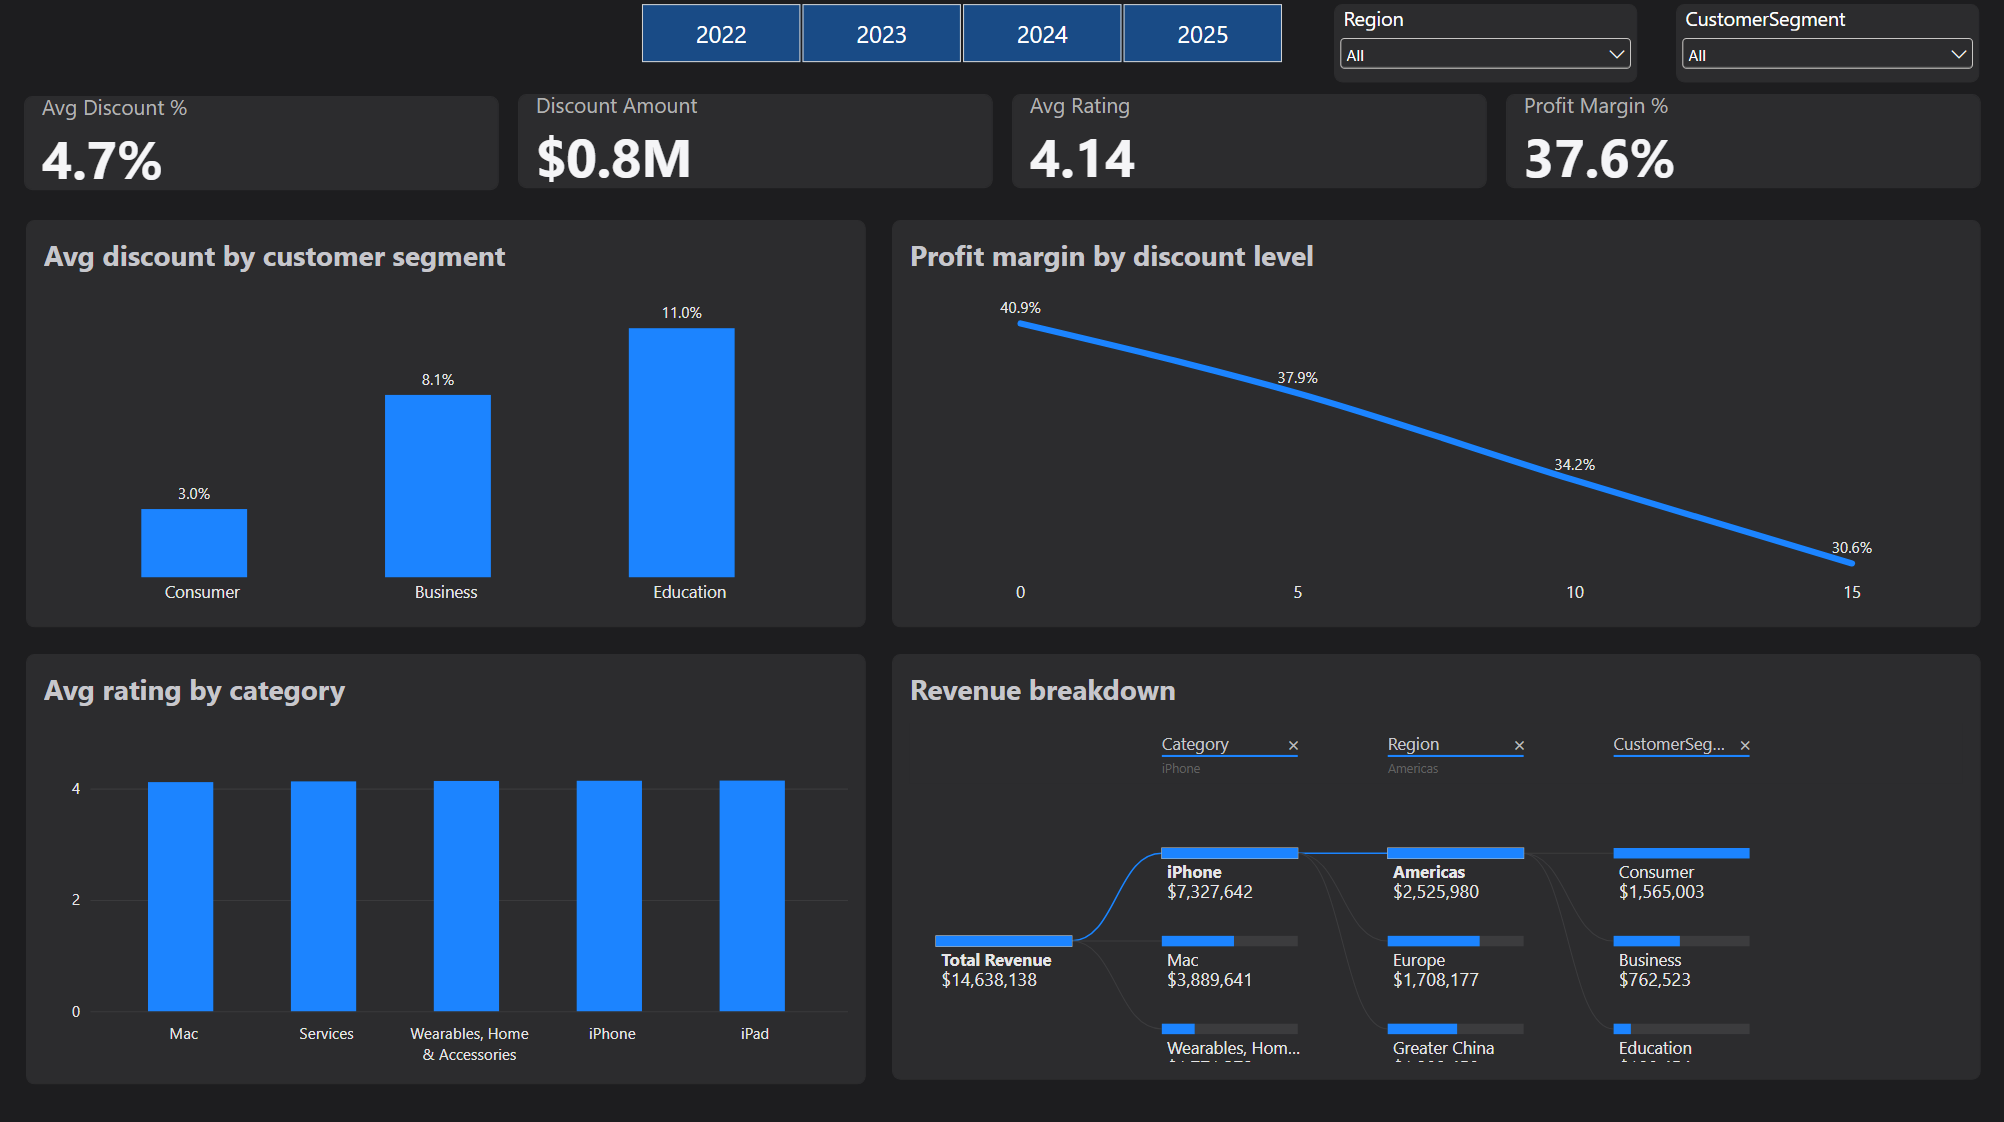

The dashboard page shown, as its layout file describes it:
{"tool":"powerbi","page":{"name":"Discount & Customer Insights","canvas":[1920,1080],"ordinal":3},"visuals":[{"type":"slicer","fields":{"Values":["Date.Year"]},"box":[594.7,9.6,652.1,59.3],"z":0},{"type":"slicer","fields":{"Values":["Store.Region"]},"box":[1277.5,11.5,290,75],"z":1000},{"type":"slicer","fields":{"Values":["Sales.CustomerSegment"]},"box":[1604.5,11.5,290,75],"z":2000},{"type":"cardVisual","fields":{"Data":["Sales.Profit Margin %"]},"box":[1442.5,97.9,454,90],"z":3000},{"type":"cardVisual","fields":{"Data":["Sales.Avg Rating"]},"box":[970,97.9,454,90],"z":4000},{"type":"cardVisual","fields":{"Data":["Sales.Discount Amount"]},"box":[497.6,97.9,454,90],"z":5000},{"type":"cardVisual","fields":{"Data":["Sales.Avg Discount %"]},"box":[25.1,98.9,454,90],"z":6000},{"type":"clusteredColumnChart","title":"Avg discount by customer segment","fields":{"Category":["Sales.CustomerSegment"],"Y":["Sales.Avg Discount %"]},"box":[26,217.8,803.2,389.6],"z":7000},{"type":"lineChart","title":"Profit margin  by discount level","fields":{"Category":["Sales.DiscountPct"],"Y":["Sales.Profit Margin %"]},"box":[855.1,217.8,1040.9,389.6],"z":8000},{"type":"clusteredColumnChart","title":"Avg rating by category","fields":{"Category":["Product.Category"],"Y":["Sales.Avg Rating"]},"box":[26,633.3,803.2,411.6],"z":9000},{"type":"decompositionTreeVisual","title":"Revenue breakdown","fields":{"Analyze":["Sales.Total Revenue"],"ExplainBy":["Product.Category","Store.Region","Sales.CustomerSegment"]},"box":[855.1,633.3,1040.9,407],"z":10000}]}

Visuals, with their boxes in screenshot pixels (x1, y1, x2, y2), scaled from the page's 1920x1080 canvas onto the 2004x1122 screenshot:
slicer - Date.Year: <bbox>621, 10, 1301, 72</bbox>
slicer - Store.Region: <bbox>1333, 12, 1636, 90</bbox>
slicer - Sales.CustomerSegment: <bbox>1675, 12, 1977, 90</bbox>
cardVisual - Sales.Profit Margin %: <bbox>1506, 102, 1979, 195</bbox>
cardVisual - Sales.Avg Rating: <bbox>1012, 102, 1486, 195</bbox>
cardVisual - Sales.Discount Amount: <bbox>519, 102, 993, 195</bbox>
cardVisual - Sales.Avg Discount %: <bbox>26, 103, 500, 196</bbox>
"Avg discount by customer segment" clusteredColumnChart: <bbox>27, 226, 865, 631</bbox>
"Profit margin  by discount level" lineChart: <bbox>893, 226, 1979, 631</bbox>
"Avg rating by category" clusteredColumnChart: <bbox>27, 658, 865, 1086</bbox>
"Revenue breakdown" decompositionTreeVisual: <bbox>893, 658, 1979, 1081</bbox>
